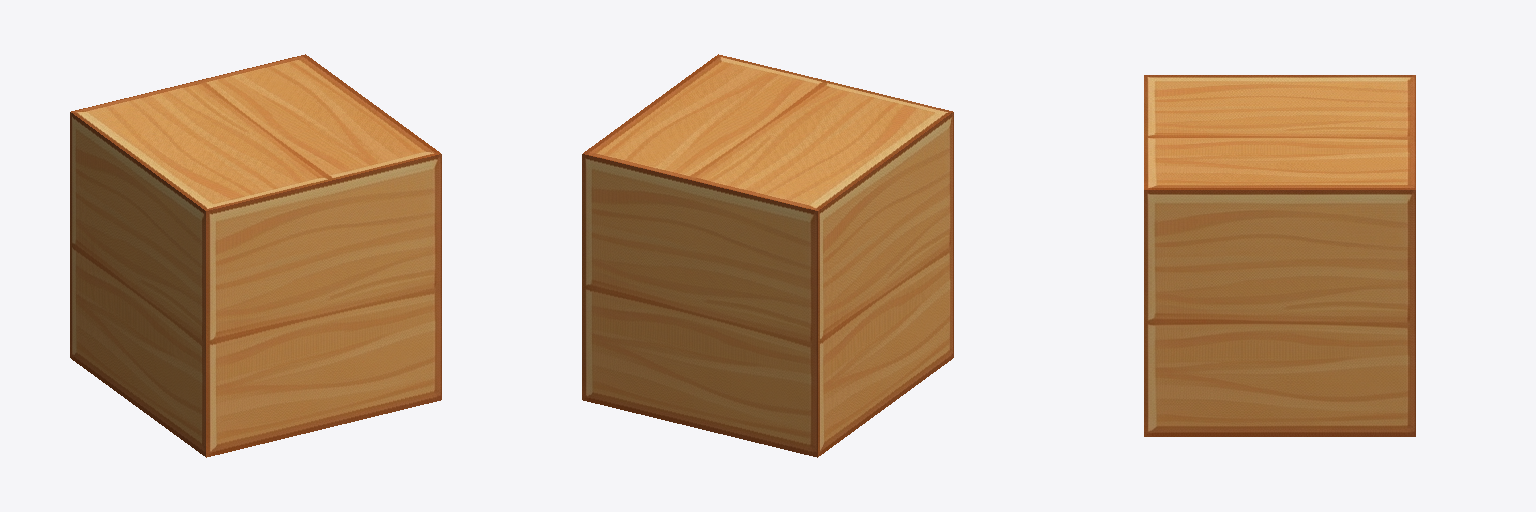
The picture shows the model from 3 angles: view 1: azimuth 30°, elevation 25°; view 2: azimuth 150°, elevation 25°; view 3: azimuth 270°, elevation 25°; orthographic projection.
Visible parts, largest first — view 1: 立方体; view 2: 立方体; view 3: 立方体.
Boxes of the visible parts, x1,y1,x2,y2 form: 立方体: [70, 54, 441, 457]; 立方体: [582, 54, 953, 457]; 立方体: [1144, 75, 1415, 436].
Bounding box in the file's own units: 1 × 1 × 1.
1 materials, 1 textured.